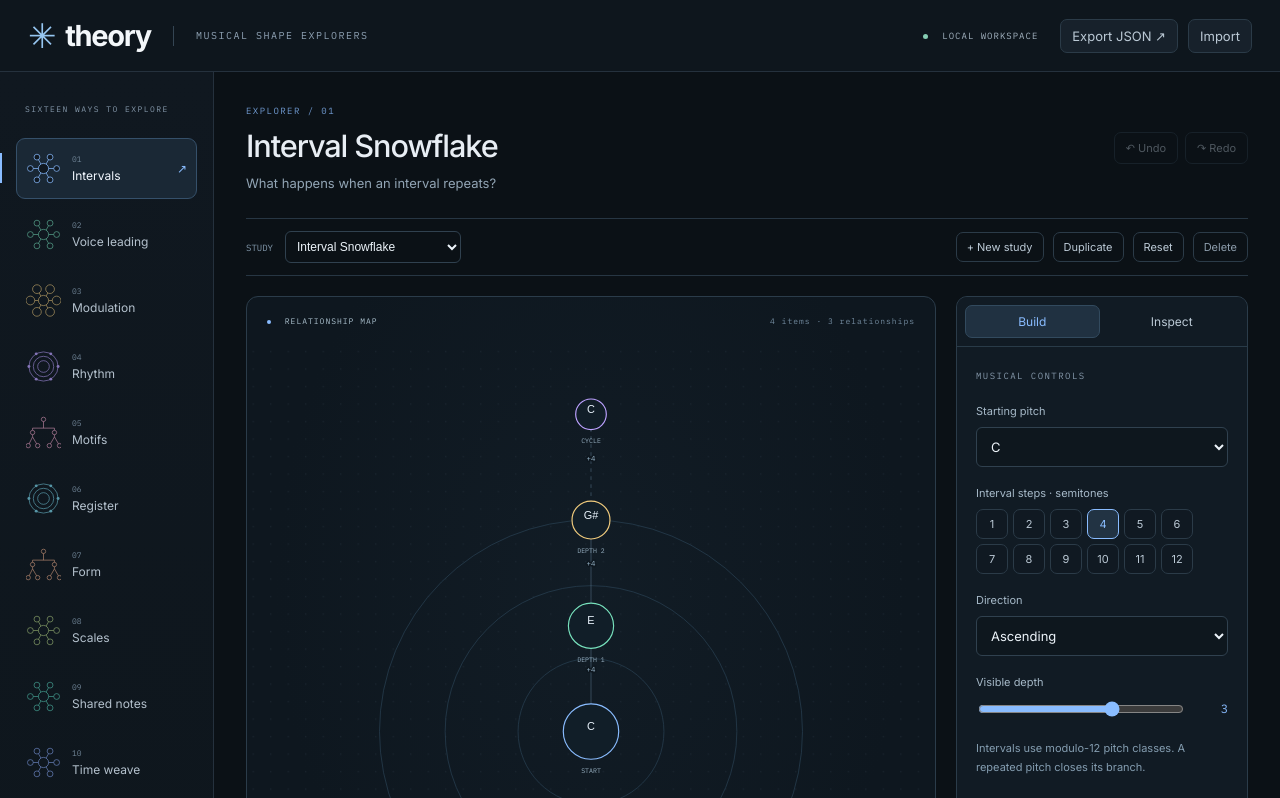
Test: workspace interactions › edits, preserves settings across explorers, and undoes changes
Select "D" in the dropdown named "Starting pitch" at x=1102, y=447, box [976,427,1228,467]
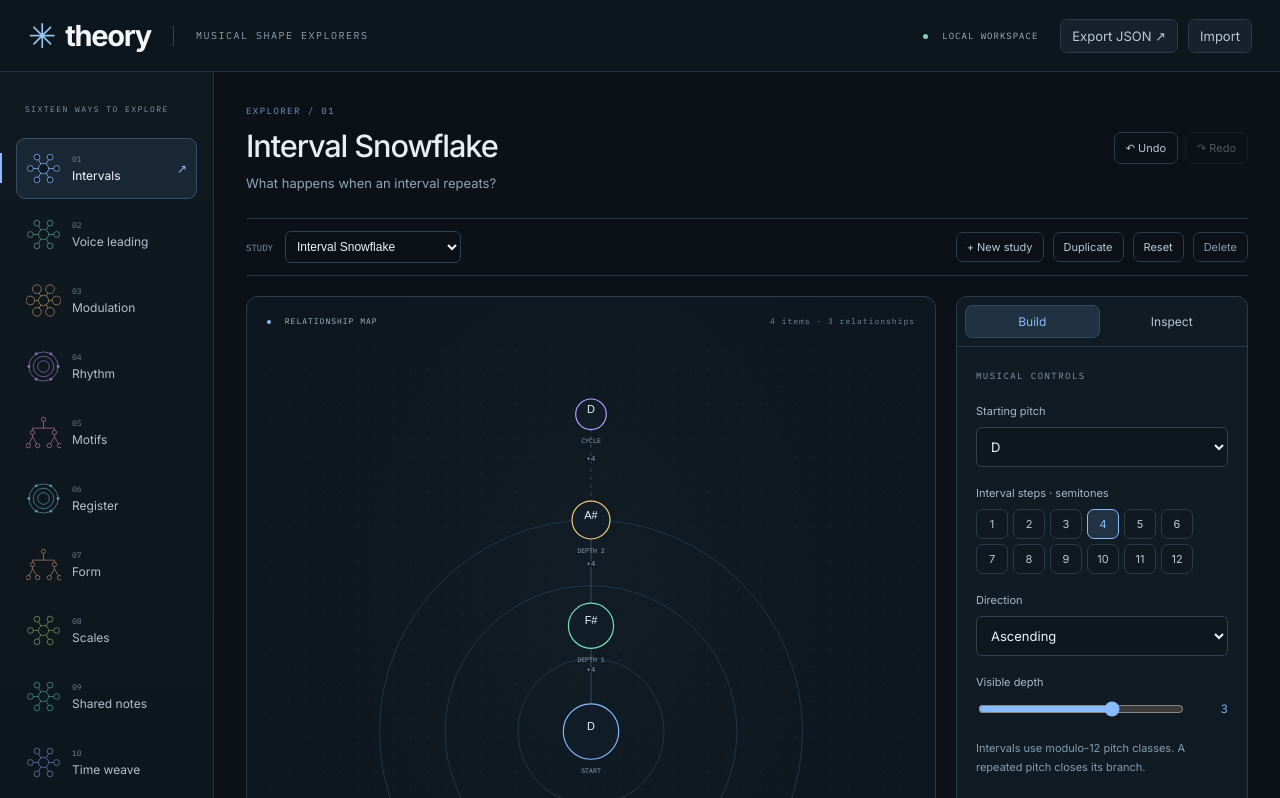
Expected: the button "D · START" is shown, [581,720,601,775]
Click the button "02 Voice leading" at x=106, y=234, box [16,204,197,265]
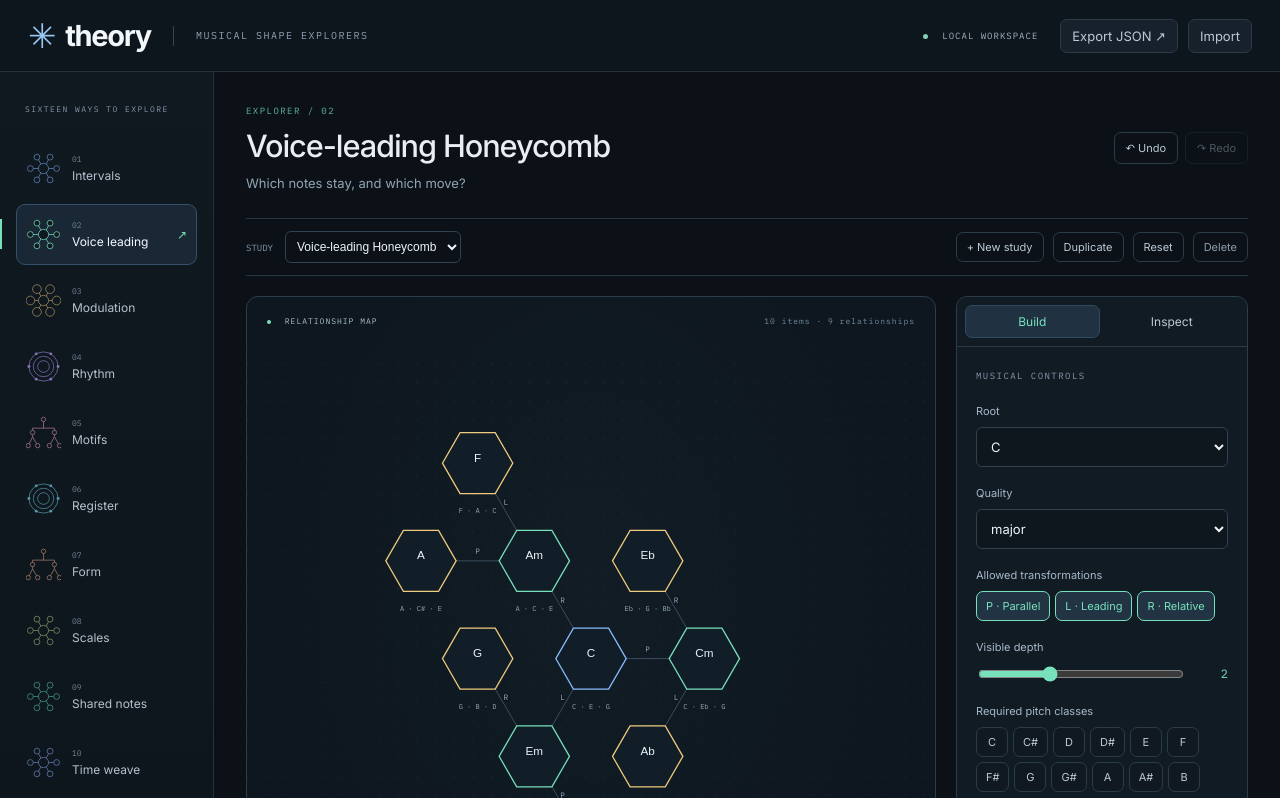
Click the button "01 Intervals" at x=106, y=168, box [16,138,197,199]
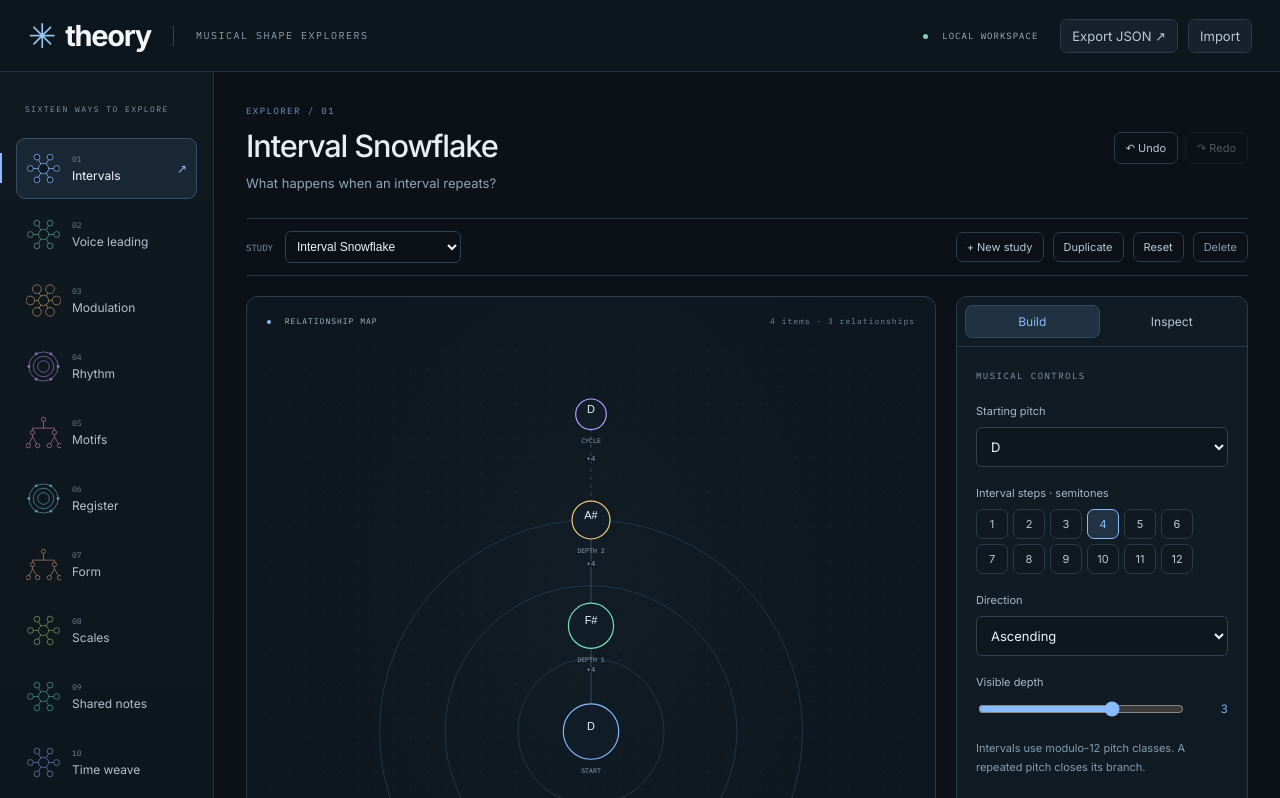
Now the dropdown named "Starting pitch" shows "D", box [976,427,1228,467]
Click the button "↶ Undo" at x=1146, y=148, box [1114,132,1178,164]
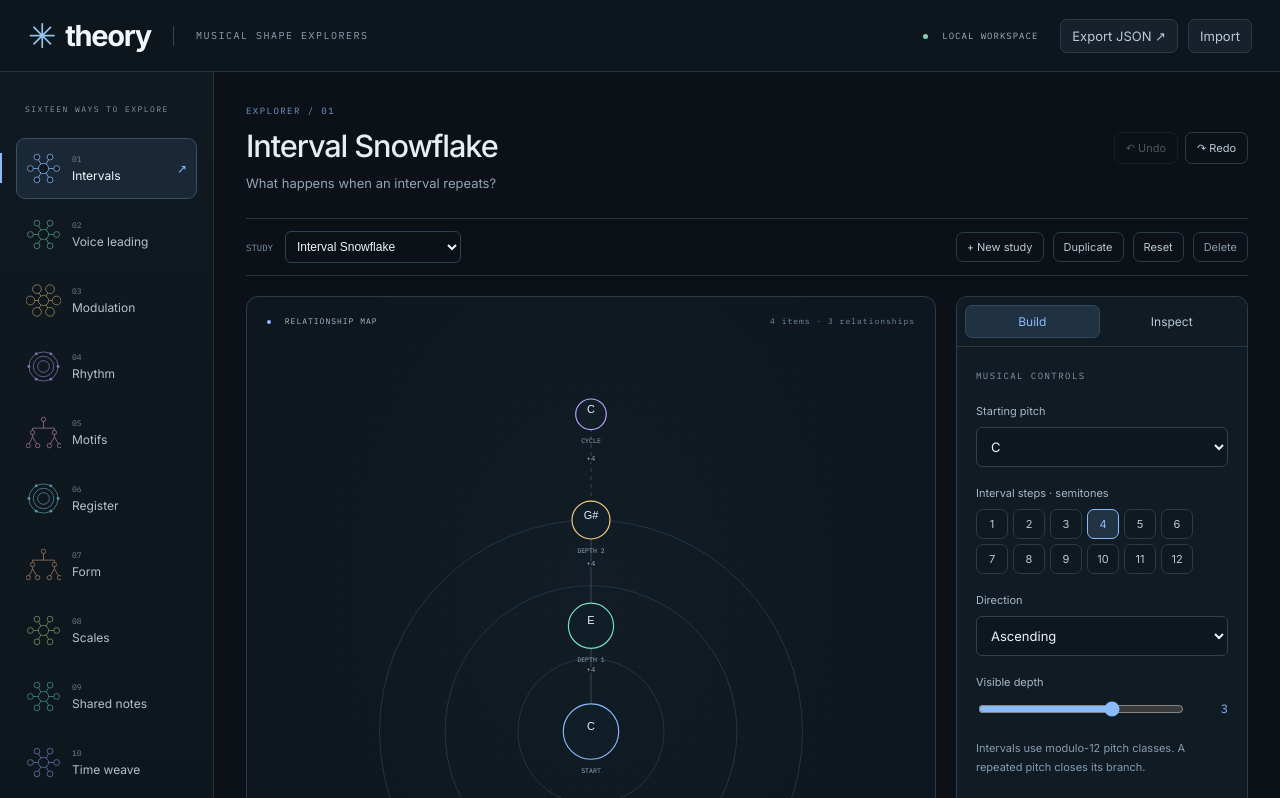
Now the dropdown named "Starting pitch" shows "C", box [976,427,1228,467]
